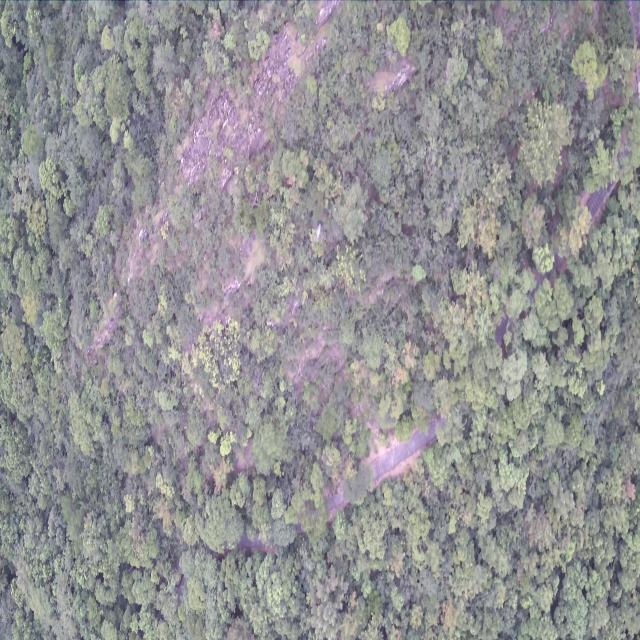UAV: (313, 222, 325, 244)
